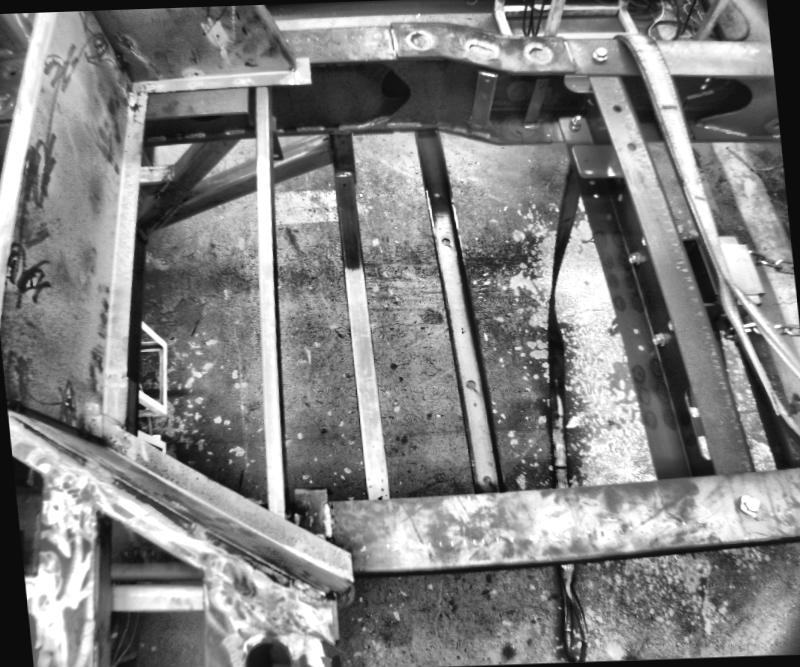bolt: (736, 494, 762, 516), (588, 45, 610, 66), (567, 116, 583, 133), (651, 332, 668, 347), (628, 251, 642, 265)
bracket: (288, 477, 342, 531), (512, 76, 552, 134), (465, 70, 501, 134), (568, 143, 624, 181), (265, 116, 289, 164)
hole: (238, 635, 296, 665), (462, 378, 478, 390), (480, 473, 492, 485), (610, 102, 622, 111), (626, 142, 637, 151), (630, 326, 642, 334), (440, 236, 450, 244), (432, 188, 440, 197), (636, 341, 643, 350), (340, 180, 347, 187), (582, 157, 588, 165), (274, 155, 280, 160), (320, 135, 326, 140)
